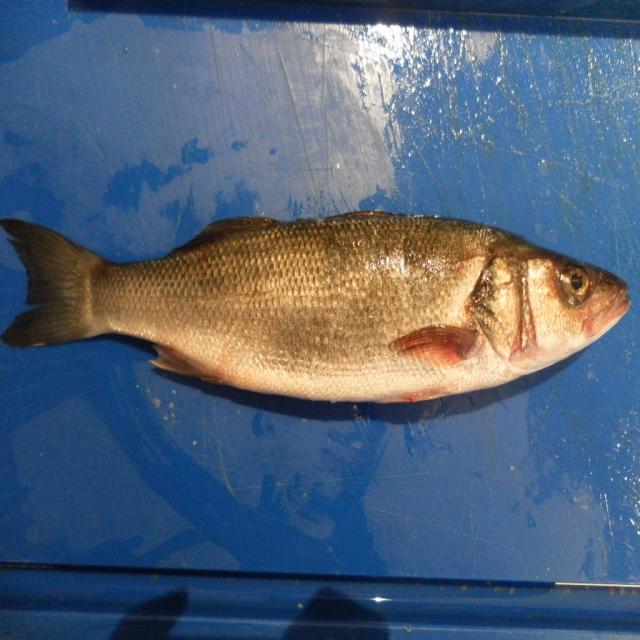Sea-Bass-levrek-: (0, 212, 631, 408)
